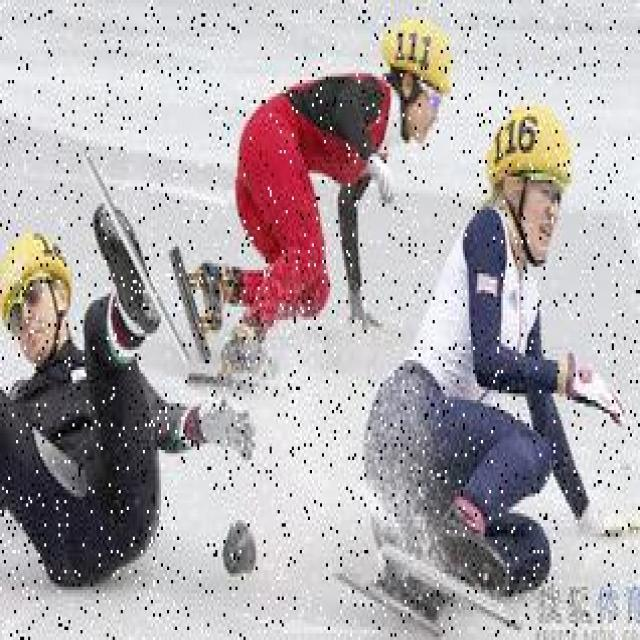fall: (362, 120, 612, 587), (1, 220, 246, 576)
